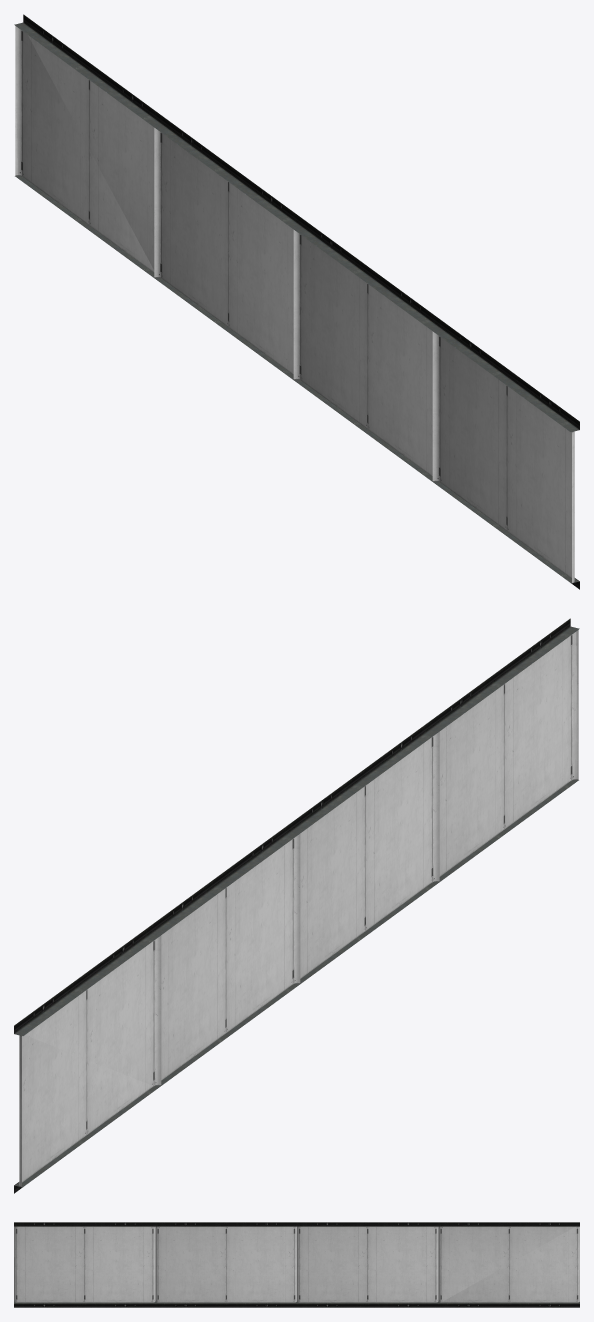
The model's file is Neon_Wall_24x4_01B.FBX.
3 views of the same model, one above another, from view 1: azimuth 30°, elevation 25°; view 2: azimuth 150°, elevation 25°; view 3: azimuth 270°, elevation 25° (orthographic). The views are drawn at different scales.
Parts seen in each view (by area): view 1: Neon_Wall_24x4_01B; view 2: Neon_Wall_24x4_01B; view 3: Neon_Wall_24x4_01B.
Part boxes in pixels (left/top/right/bottom): Neon_Wall_24x4_01B: left=14, top=14, right=579, bottom=589; Neon_Wall_24x4_01B: left=14, top=618, right=579, bottom=1193; Neon_Wall_24x4_01B: left=14, top=1222, right=579, bottom=1307.
Size of the model in its own units: 0.2298 by 4 by 24.
